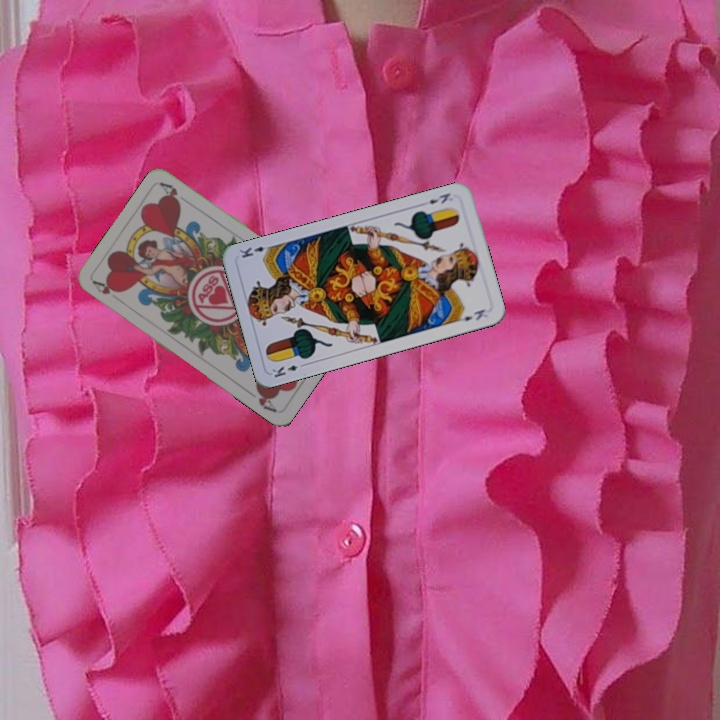EK: (268, 359, 309, 380), (425, 189, 453, 206)
HA: (89, 277, 122, 297)
